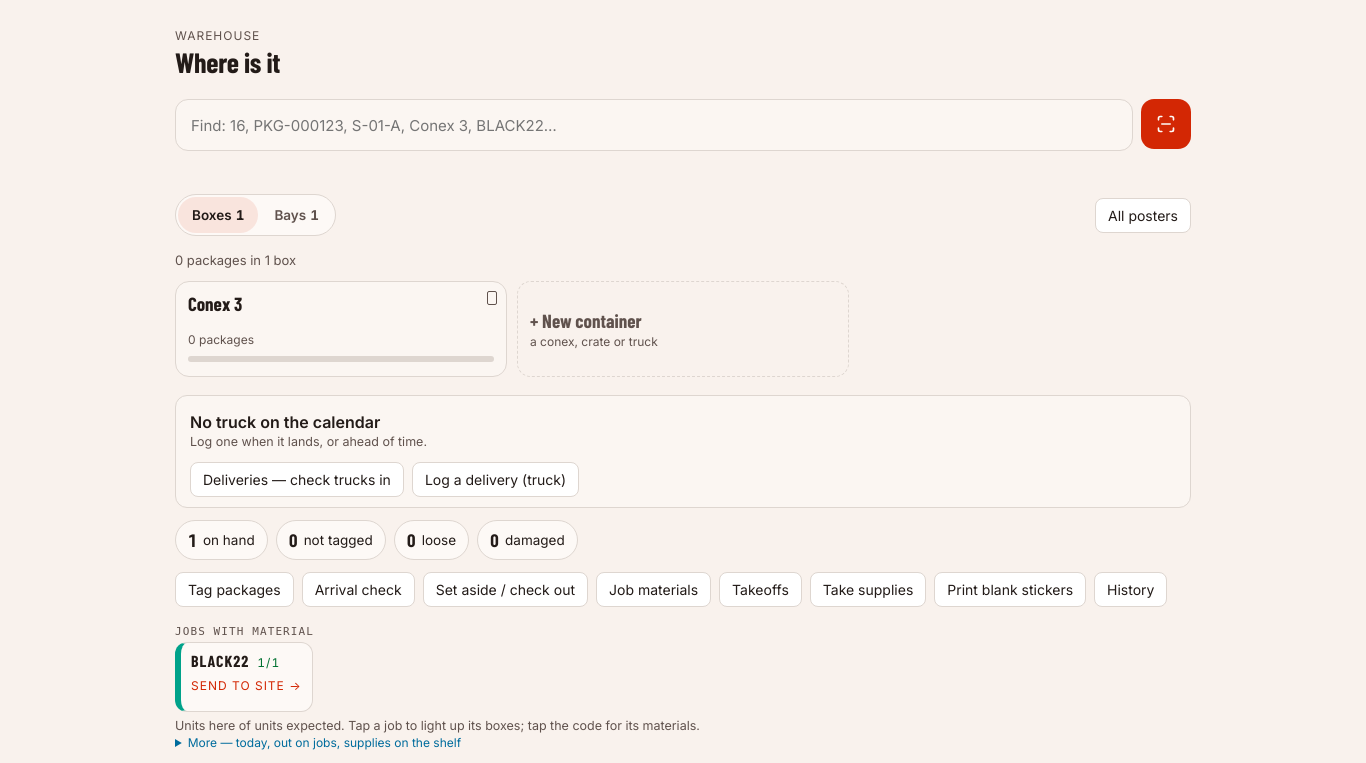
Scenario: the bays are their own picture (owner call 2026-09-06) › refuses to turn off a bay that still holds material
The width and height of the screenshot is (1366, 763).
Click the button with class "yard-view" showing "Bays1".
click(297, 215)  # box x1=260 y1=197 x2=333 y2=233
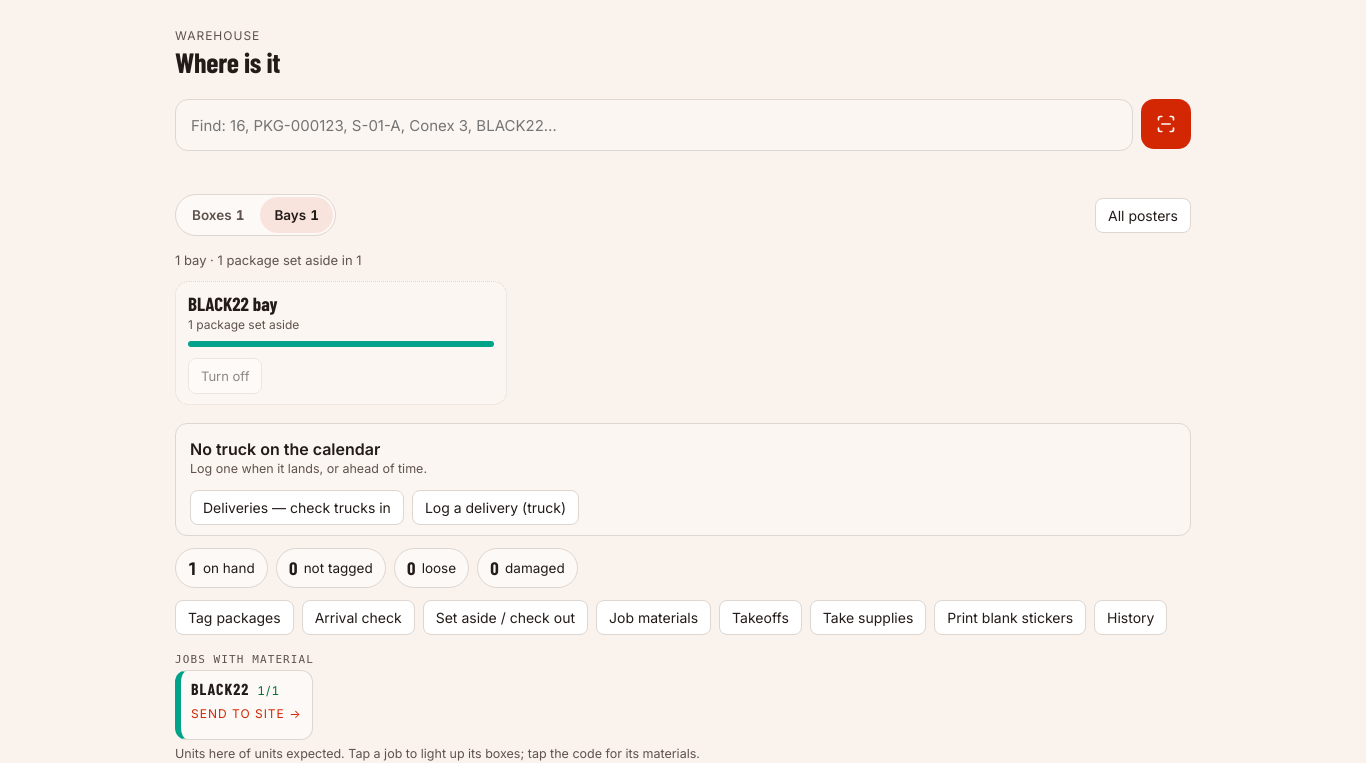
expect the button with class "bay-off" is disabled: met, box x1=188 y1=358 x2=262 y2=394
